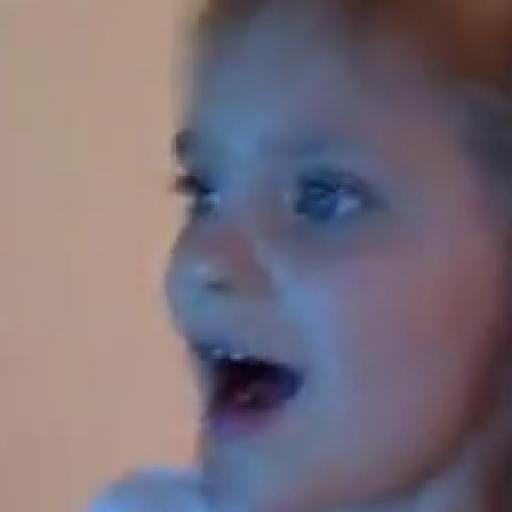Autism: (114, 13, 511, 512)
